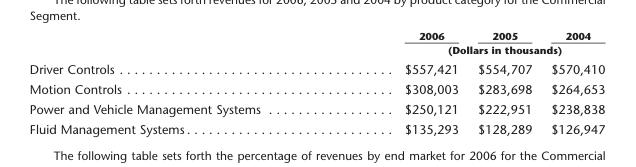table: (28, 29, 604, 136)
table column: (28, 29, 331, 136), (331, 29, 467, 136), (467, 29, 540, 136), (540, 29, 604, 136)
table column header: (28, 29, 604, 57)
table row: (28, 57, 604, 78), (28, 78, 604, 98), (28, 98, 604, 118), (28, 118, 604, 136), (28, 42, 604, 57), (28, 29, 604, 42)
table spanning cell: (331, 42, 604, 57)
